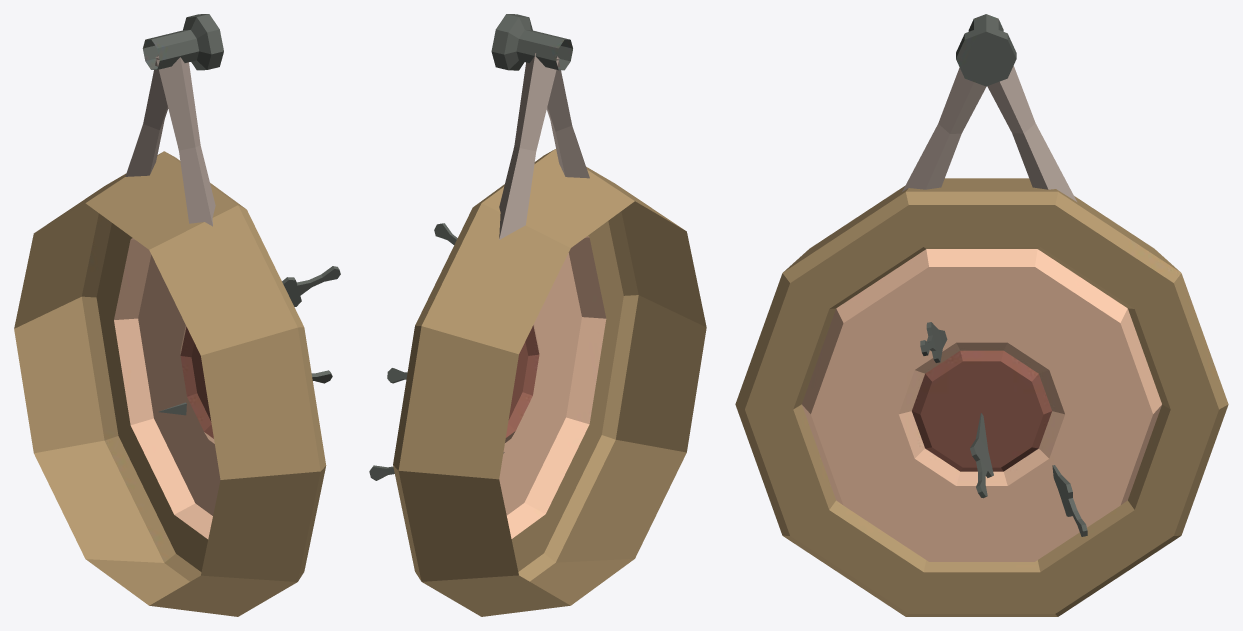
The model's file is target.glb.
3 views of the same model, side by side, from view 1: azimuth 30°, elevation 25°; view 2: azimuth 150°, elevation 25°; view 3: azimuth 270°, elevation 25° (orthographic). The views are drawn at different scales.
Visible parts, largest first — view 1: dartboard; view 2: dartboard; view 3: dartboard.
Boxes of the visible parts, x1,y1,x2,y2 form: dartboard: [14, 14, 340, 616]; dartboard: [369, 14, 706, 616]; dartboard: [735, 14, 1228, 616].
Bounding box in the file's own units: 0.7831 × 2 × 1.51.
Materials: 1 (1 with a texture image).
